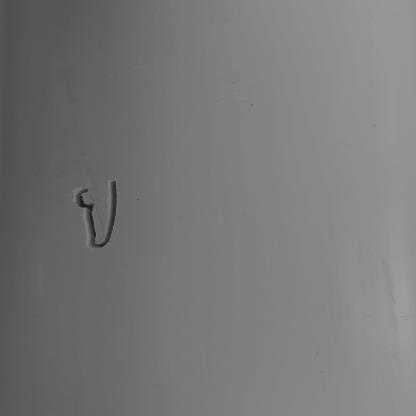fengxi: (72, 181, 122, 250)
